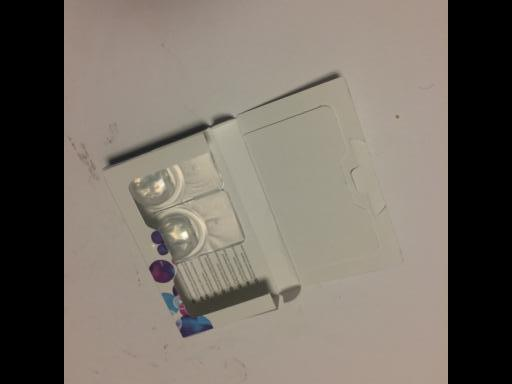trash: (68, 70, 406, 340)
